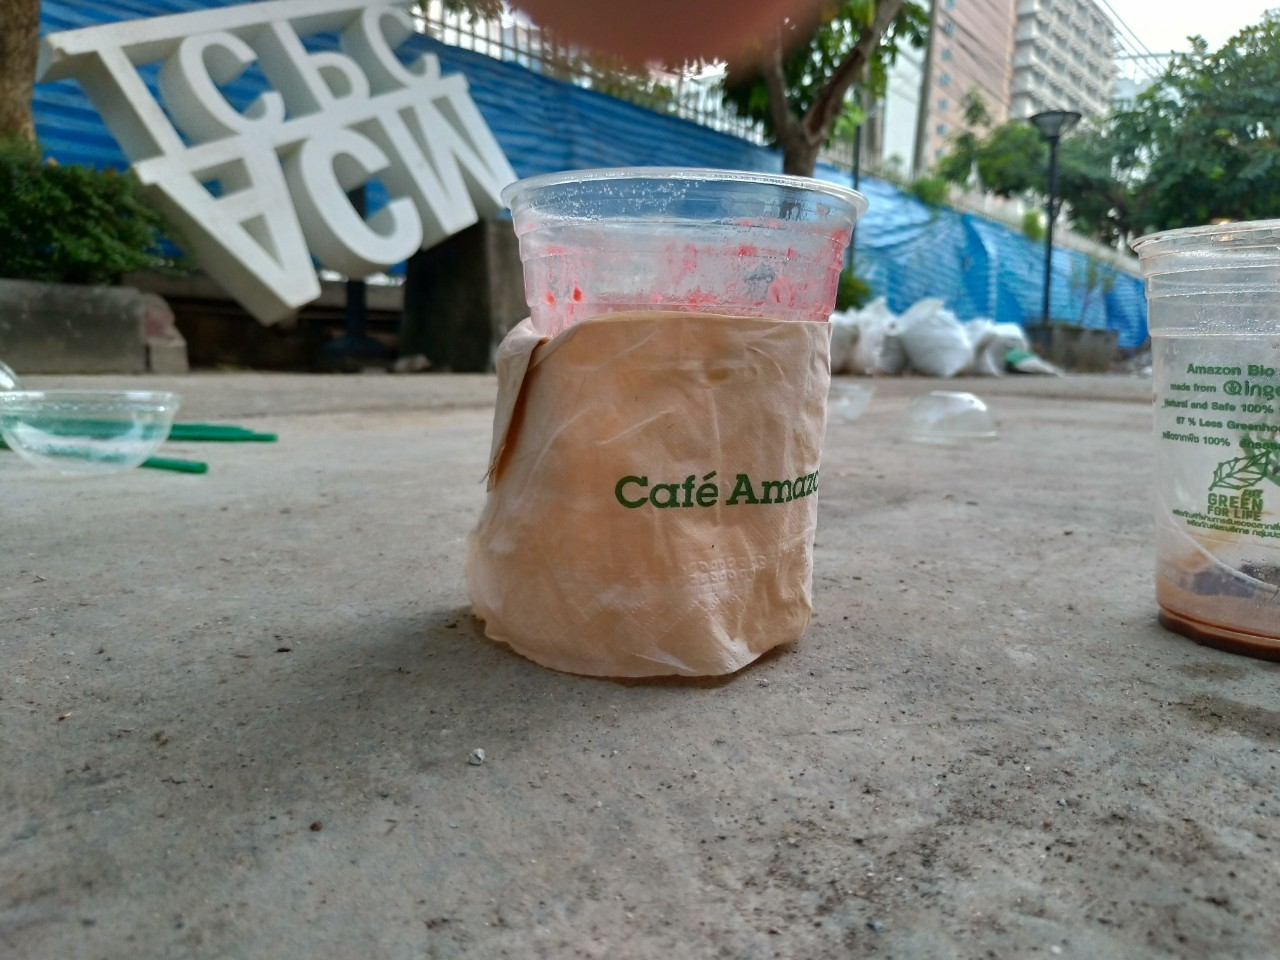PlasticCup: (486, 161, 865, 678), (1132, 218, 1280, 670)
